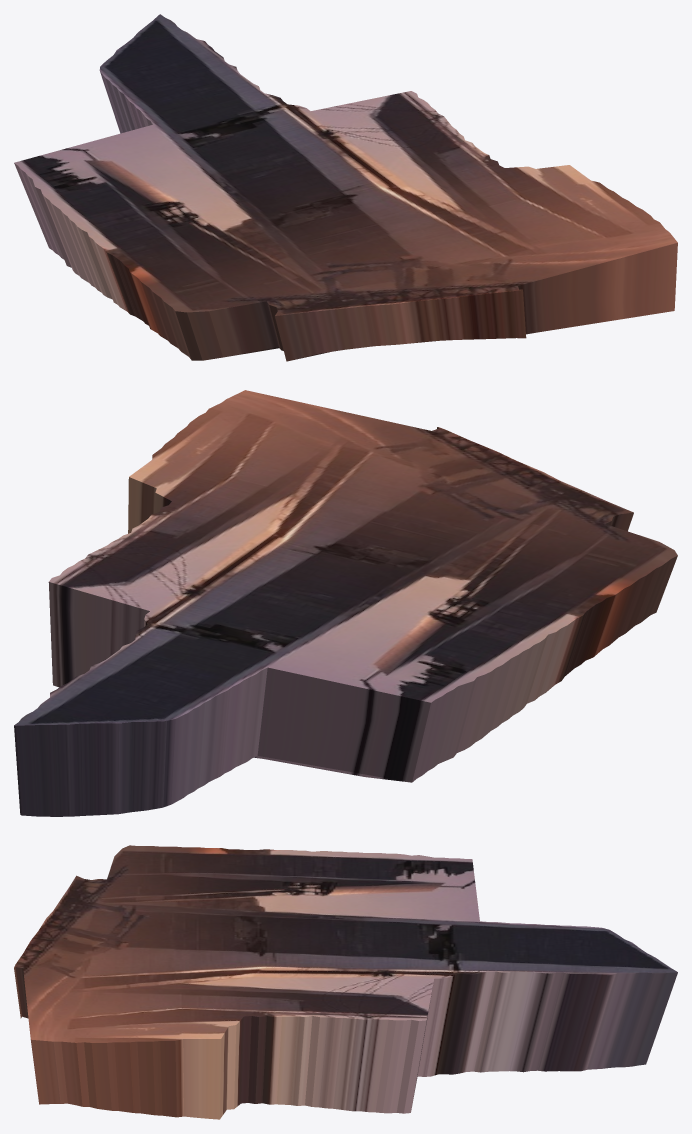
The model's file is tower.glb.
3 views of the same model, one above another, from view 1: azimuth 30°, elevation 25°; view 2: azimuth 150°, elevation 25°; view 3: azimuth 270°, elevation 25° (orthographic). The views are drawn at different scales.
Parts seen in each view (by area): view 1: tower-hero; view 2: tower-hero; view 3: tower-hero.
Boxes of the visible parts, <box> form: tower-hero: <box>14,14,677,361</box>; tower-hero: <box>14,390,677,816</box>; tower-hero: <box>14,845,677,1119</box>.
Size of the model in its own units: 180 by 40.55 by 254.
Materials: 1 (1 with a texture image).
